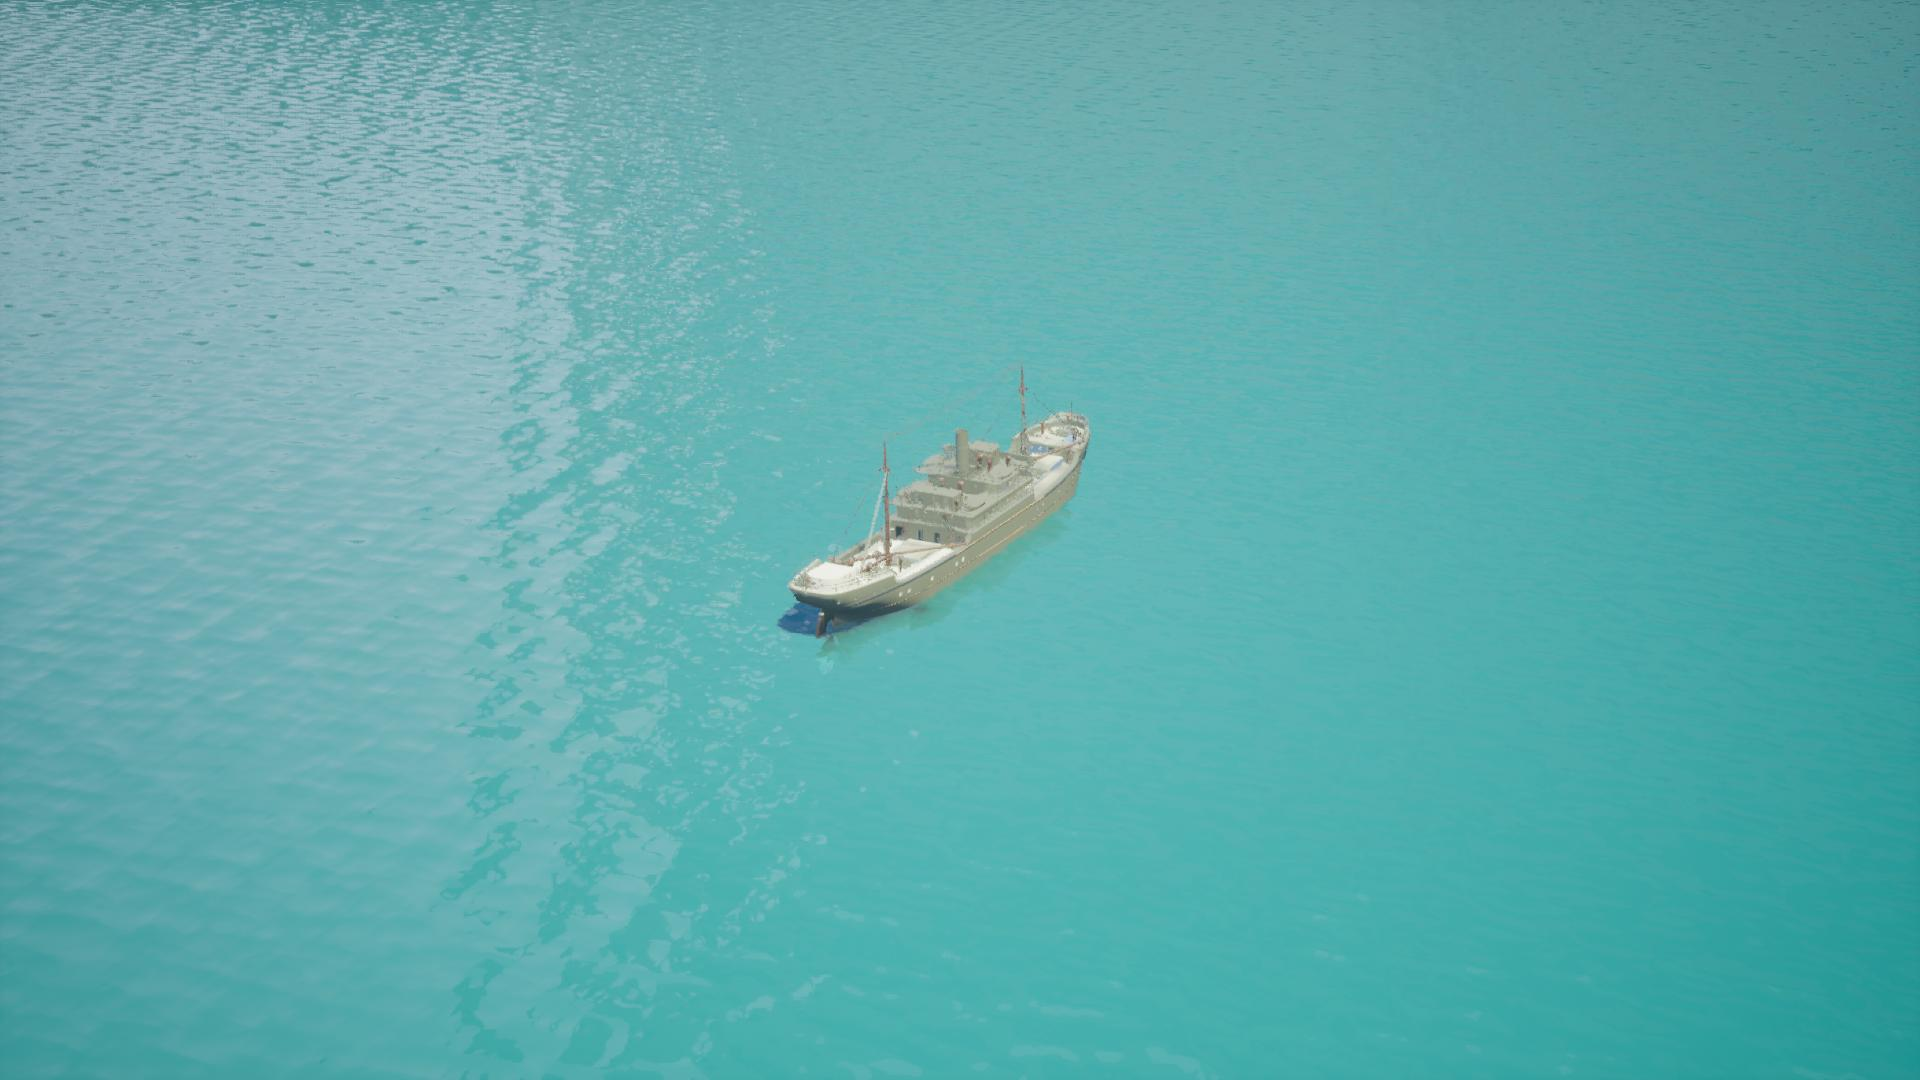Fishing Boat: (783, 388, 1092, 641)
